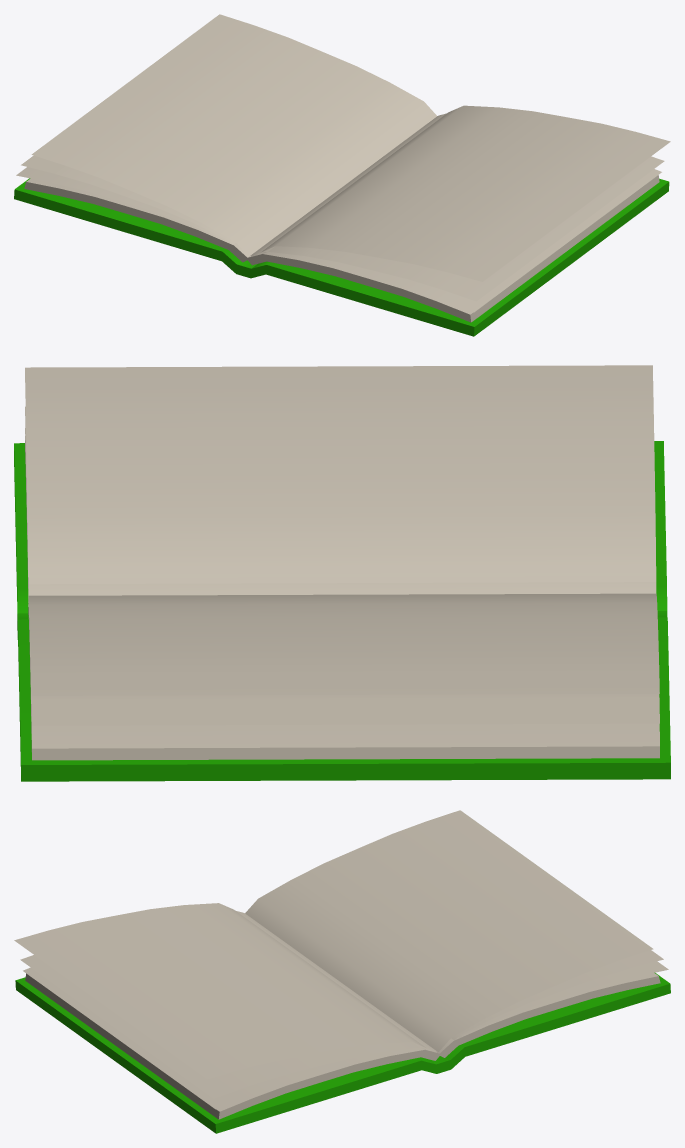
Rendered from open_book_2 1.fbx.
The picture shows the model from 3 angles, top to bottom: view 1: azimuth 30°, elevation 25°; view 2: azimuth 150°, elevation 25°; view 3: azimuth 270°, elevation 25°; orthographic projection. The views are drawn at different scales.
Parts seen in each view (by area): view 1: room:polySurface12; view 2: room:polySurface12; view 3: room:polySurface12.
Part boxes in pixels (<box>): room:polySurface12: <box>14,14,670,336</box>; room:polySurface12: <box>14,365,670,781</box>; room:polySurface12: <box>14,810,670,1133</box>.
Size of the model in its own units: 391 by 51.5 by 422.
